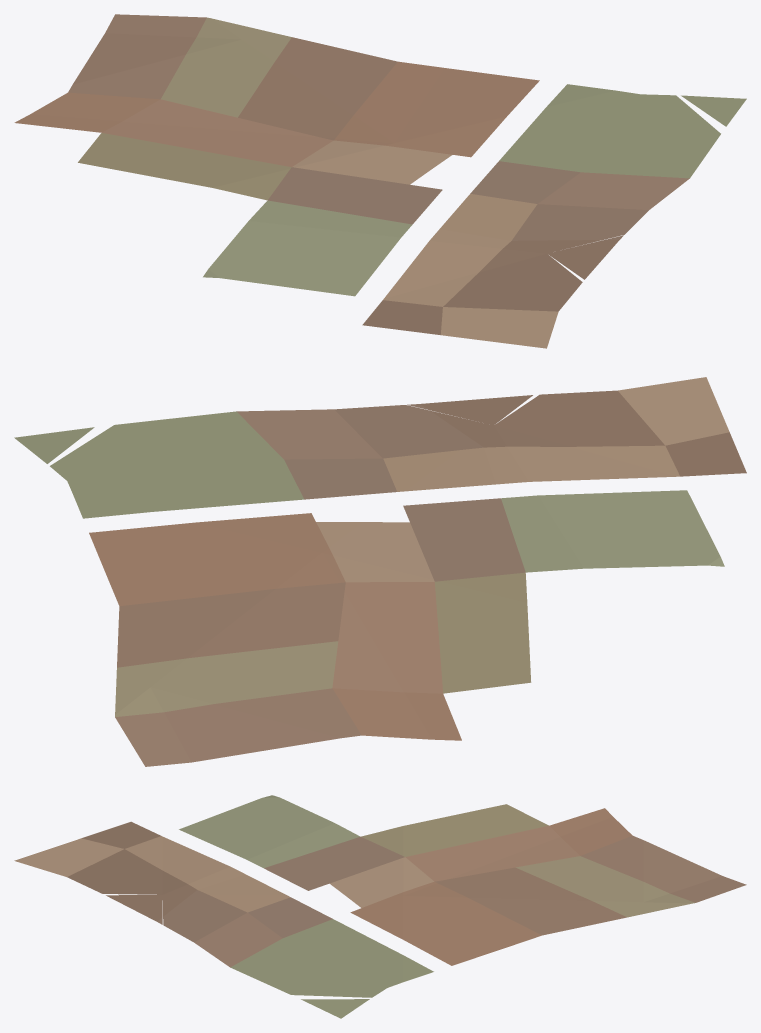
File: farm_31_13_soil.glb
The picture shows the model from 3 angles, top to bottom: view 1: azimuth 30°, elevation 25°; view 2: azimuth 150°, elevation 25°; view 3: azimuth 270°, elevation 25°; orthographic projection. The views are drawn at different scales.
Parts seen in each view (by area): view 1: geometry_0; view 2: geometry_0; view 3: geometry_0.
Boxes of the visible parts, x1,y1,x2,y2 form: geometry_0: [14, 14, 746, 348]; geometry_0: [14, 377, 746, 766]; geometry_0: [14, 795, 746, 1018].
Bounding box in the file's own units: 178 × 5.32 × 244.
